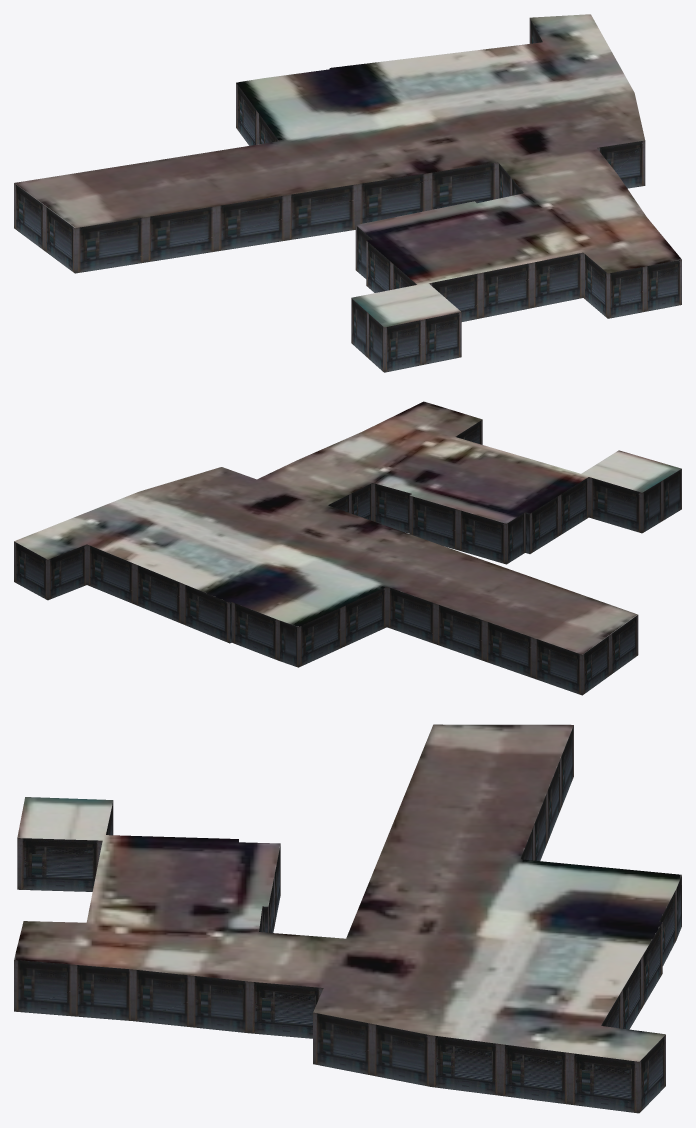
File: T_1T8MG4PJC2.dae
The picture shows the model from 3 angles, top to bottom: view 1: azimuth 30°, elevation 25°; view 2: azimuth 150°, elevation 25°; view 3: azimuth 270°, elevation 25°; orthographic projection. The views are drawn at different scales.
Parts seen in each view (by area): view 1: SketchUp (×12); view 2: SketchUp (×16); view 3: SketchUp (×12).
Boxes of the visible parts, box(x1,y1,x2,y2) form: SketchUp (×12): box(14, 14, 681, 372); SketchUp (×16): box(14, 401, 681, 695); SketchUp (×12): box(14, 724, 681, 1113).
Size of the model in its own units: 54.69 by 45.77 by 3.91.
Materials: 2 (2 with a texture image).
